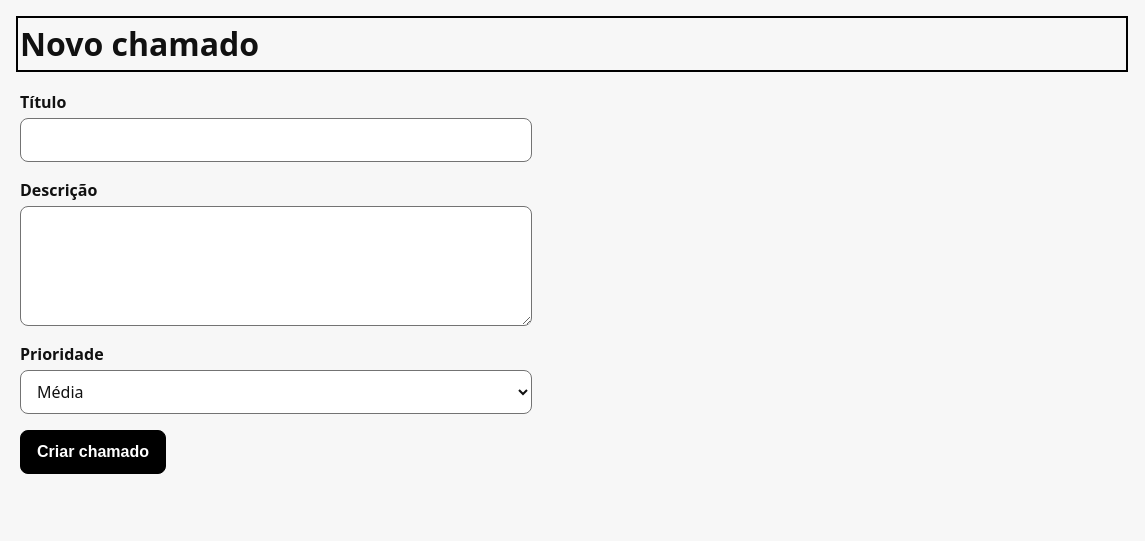
Test: TicketCreatePage › validates length limits before submitting
Type "abcd" into the field labelled "Título" at (276, 140), box top-left (20, 118), bottom-right (532, 162)
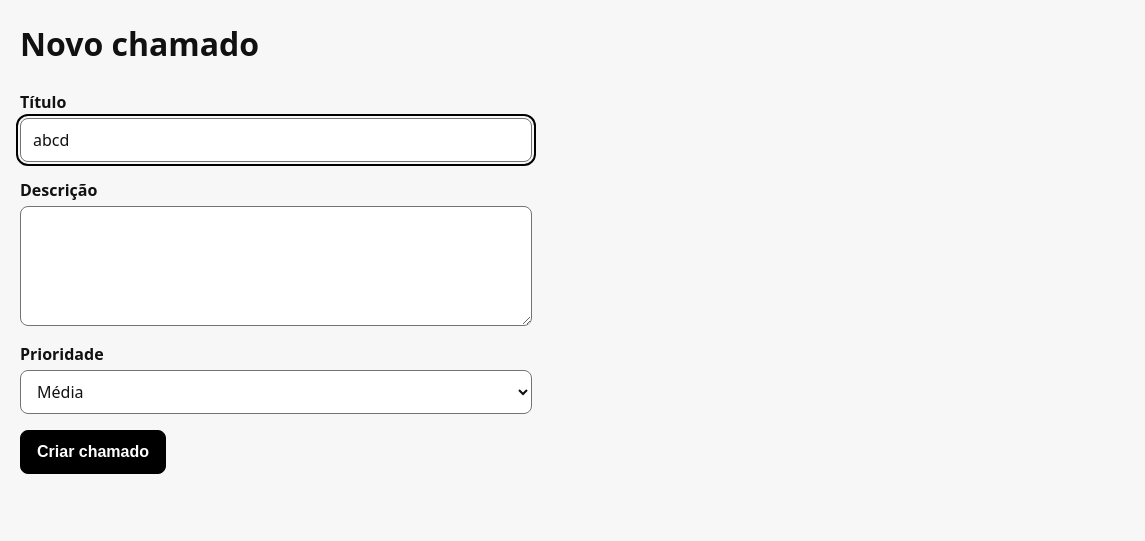
Click the button "Criar chamado" at (93, 452), box top-left (20, 430), bottom-right (166, 474)
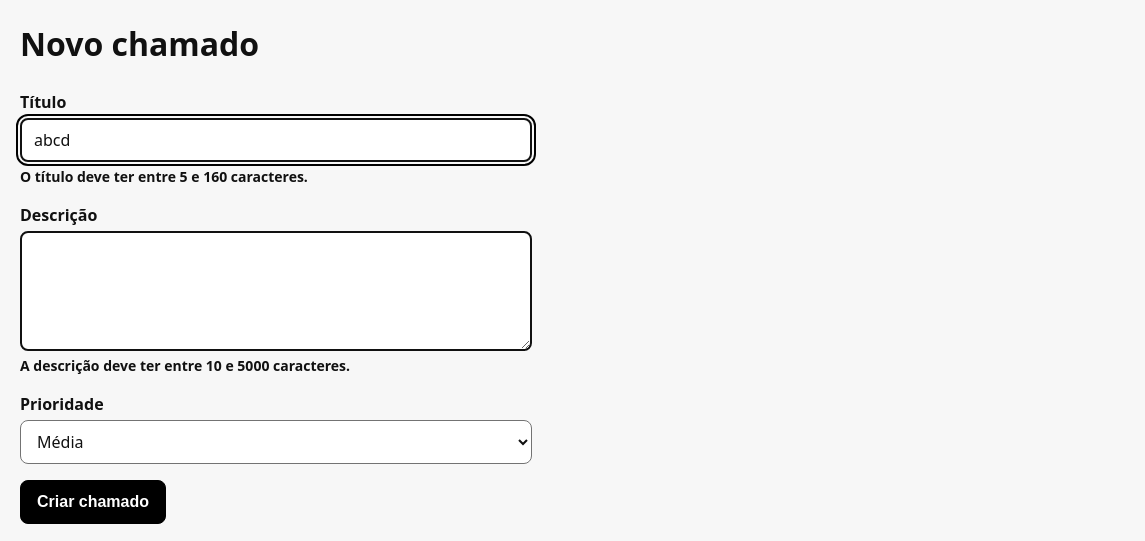
Expected: the text "O título deve ter entre 5 e 160 caracteres." is shown, top-left (20, 167), bottom-right (308, 186)
